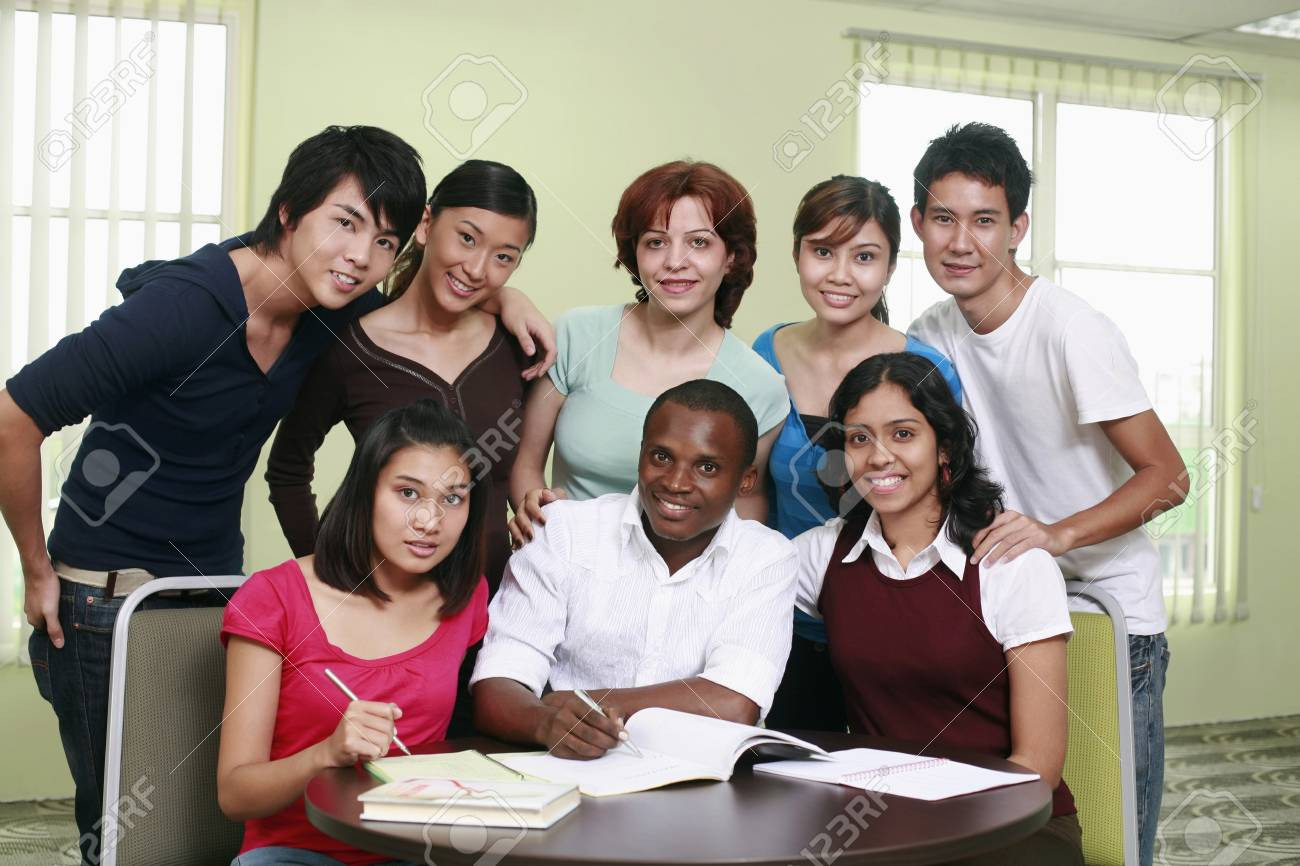person: (885, 117, 1192, 552), (810, 352, 1064, 761), (583, 363, 789, 711), (570, 161, 770, 464), (399, 133, 559, 511), (193, 118, 390, 397), (311, 414, 495, 700), (761, 175, 928, 434)
